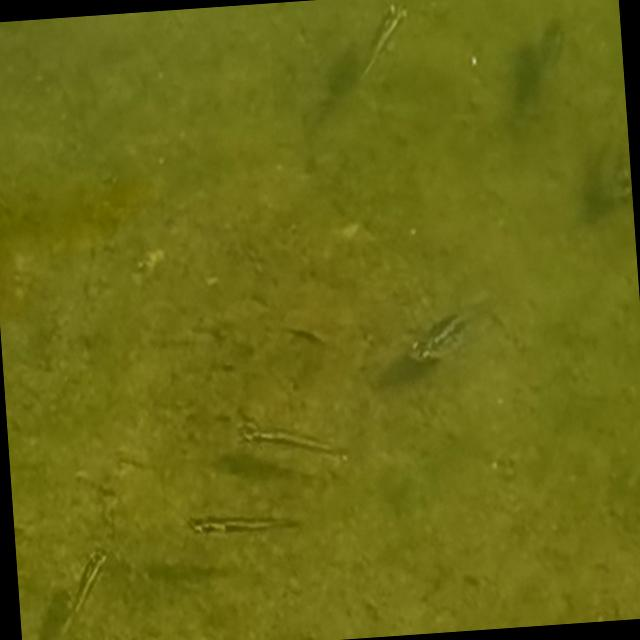Sivrisinek Baligi: (392, 286, 507, 382), (234, 409, 354, 473), (340, 0, 417, 95), (182, 498, 303, 548), (50, 549, 114, 640)
